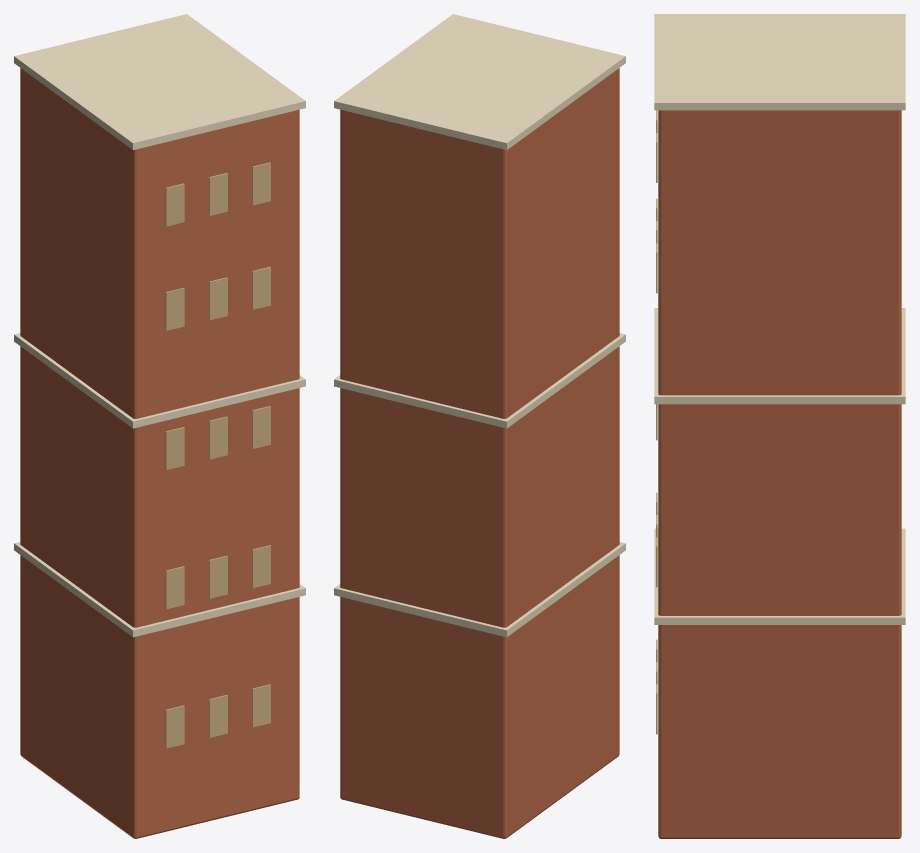
Rendered from tpe5_far_tower_1.glb.
3 views of the same model, side by side, from view 1: azimuth 30°, elevation 25°; view 2: azimuth 150°, elevation 25°; view 3: azimuth 270°, elevation 25° (orthographic). The views are drawn at different scales.
Visible parts, largest first — view 1: tpe5_far_tower_1__tpe5-street-cinnabar, tpe5_far_tower_1__tpe5-street-ivory, tpe5_far_tower_1__tpe5-street-brass; view 2: tpe5_far_tower_1__tpe5-street-cinnabar, tpe5_far_tower_1__tpe5-street-ivory; view 3: tpe5_far_tower_1__tpe5-street-cinnabar, tpe5_far_tower_1__tpe5-street-ivory, tpe5_far_tower_1__tpe5-street-brass.
Boxes of the visible parts, left/top/right/bottom form: tpe5_far_tower_1__tpe5-street-cinnabar: left=20, top=68, right=299, bottom=838; tpe5_far_tower_1__tpe5-street-ivory: left=14, top=14, right=305, bottom=637; tpe5_far_tower_1__tpe5-street-brass: left=165, top=162, right=270, bottom=748; tpe5_far_tower_1__tpe5-street-cinnabar: left=340, top=68, right=619, bottom=838; tpe5_far_tower_1__tpe5-street-ivory: left=334, top=14, right=625, bottom=637; tpe5_far_tower_1__tpe5-street-cinnabar: left=658, top=110, right=901, bottom=838; tpe5_far_tower_1__tpe5-street-ivory: left=654, top=14, right=905, bottom=624; tpe5_far_tower_1__tpe5-street-brass: left=656, top=110, right=657, bottom=734.
Size of the model in its own units: 5.2 by 20.1 by 6.2.
